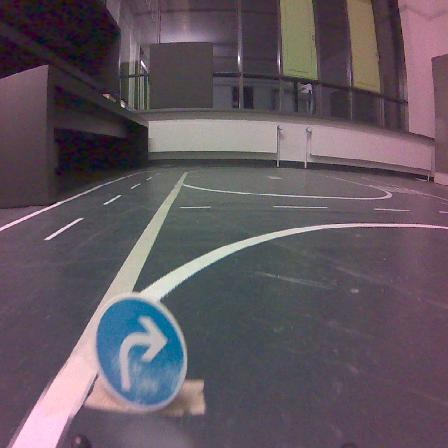RIGHT_TURN: (96, 293, 186, 409)
